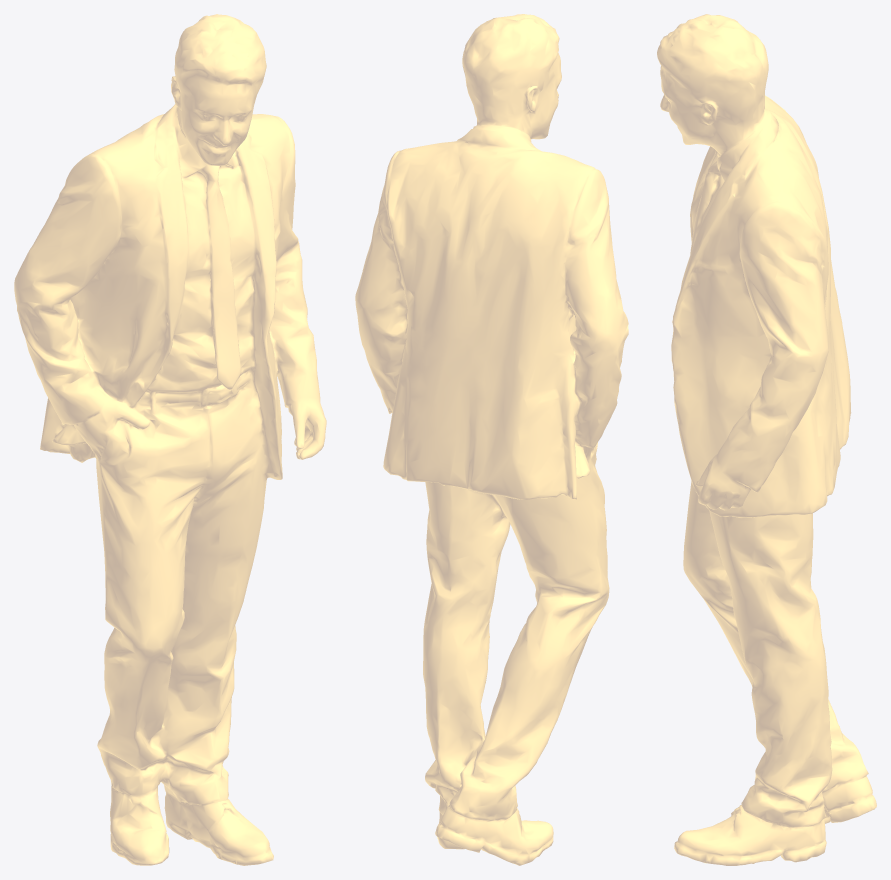
Rendered from Persona.glb.
3 renders of one model, left to right at view 1: azimuth 30°, elevation 25°; view 2: azimuth 150°, elevation 25°; view 3: azimuth 270°, elevation 25°, orthographic. The views are drawn at different scales.
Visible parts, largest first — view 1: rp_dennis_posed_004_30k; view 2: rp_dennis_posed_004_30k; view 3: rp_dennis_posed_004_30k.
Part boxes in pixels (box(x1,y1,x2,y2)): rp_dennis_posed_004_30k: box(14, 14, 326, 865); rp_dennis_posed_004_30k: box(355, 14, 628, 865); rp_dennis_posed_004_30k: box(657, 14, 876, 865).
Size of the model in its own units: 0.6418 by 1.87 by 0.4499.
